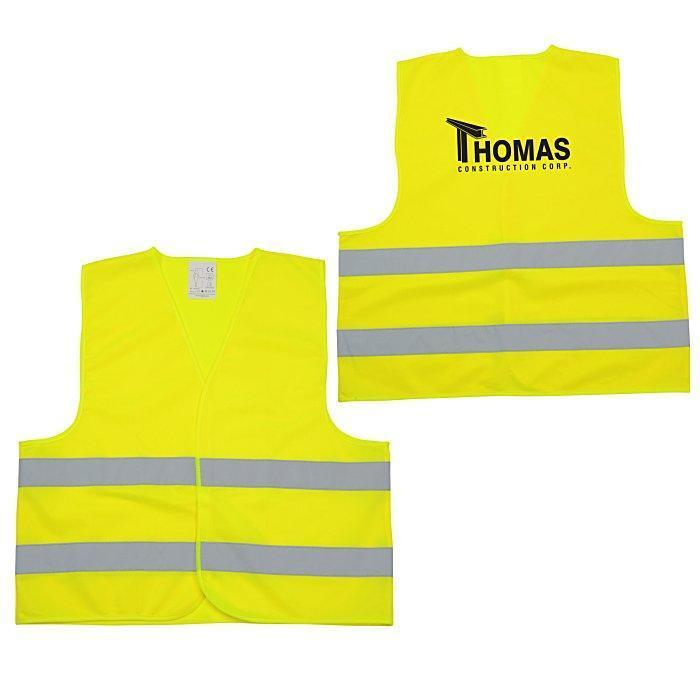vest: (12, 241, 395, 630), (334, 46, 692, 406)
